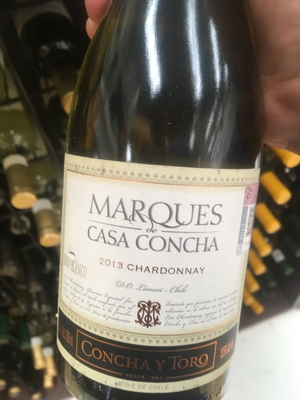marques de casa concha chardonnay: (43, 15, 269, 400)
